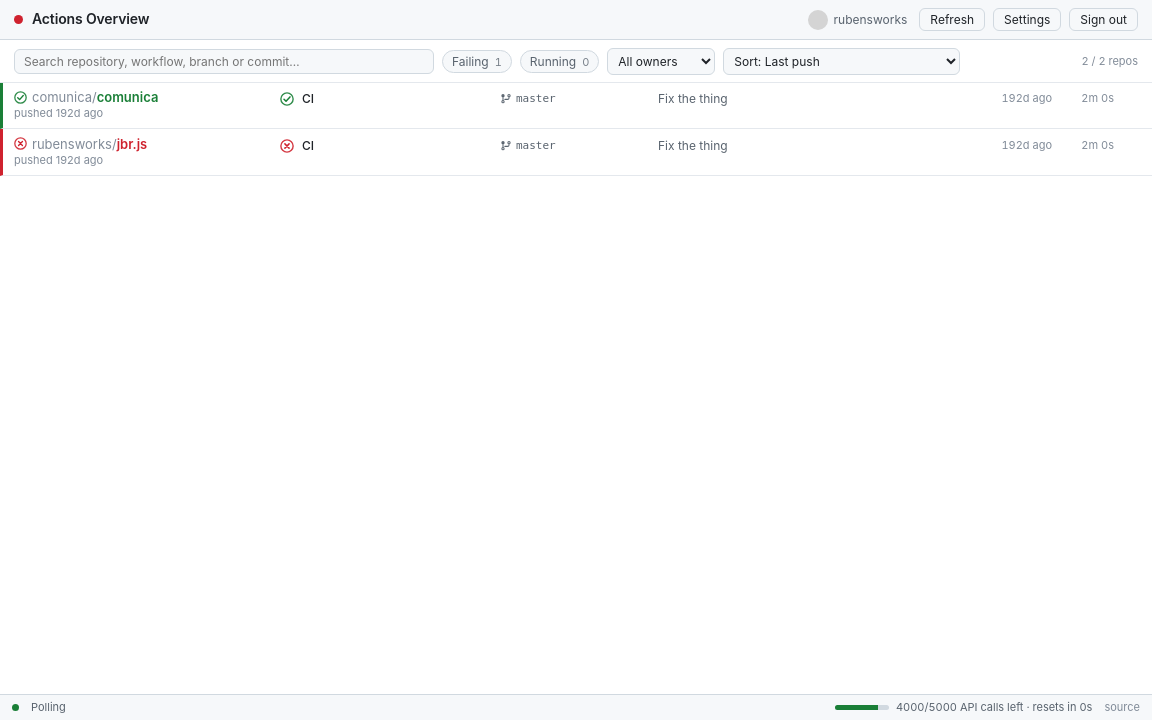
it: Dashboard › drawer › opens for the clicked repository and closes again
The image size is (1152, 720).
Click the button titled "show the last runs of every workflow": {"x": 139, "y": 97} x1=14 y1=89 x2=264 y2=105
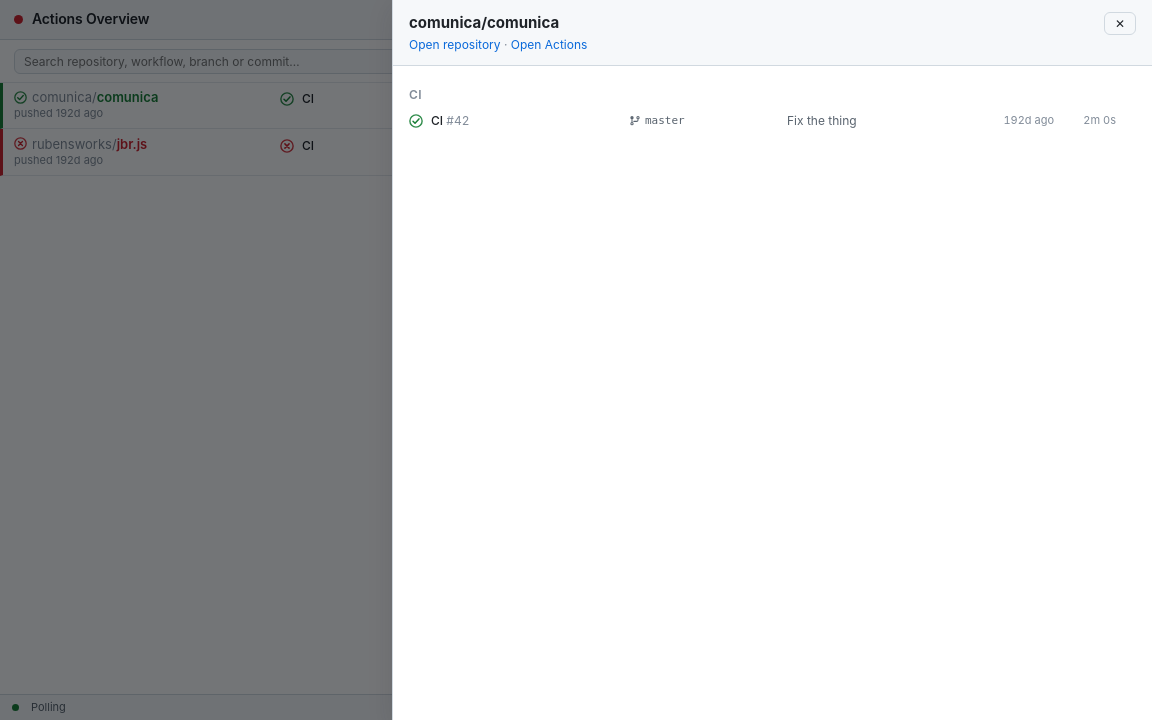
Result: the dialog is shown
Click the button named "Close": {"x": 1120, "y": 24} x1=1104 y1=12 x2=1136 y2=35
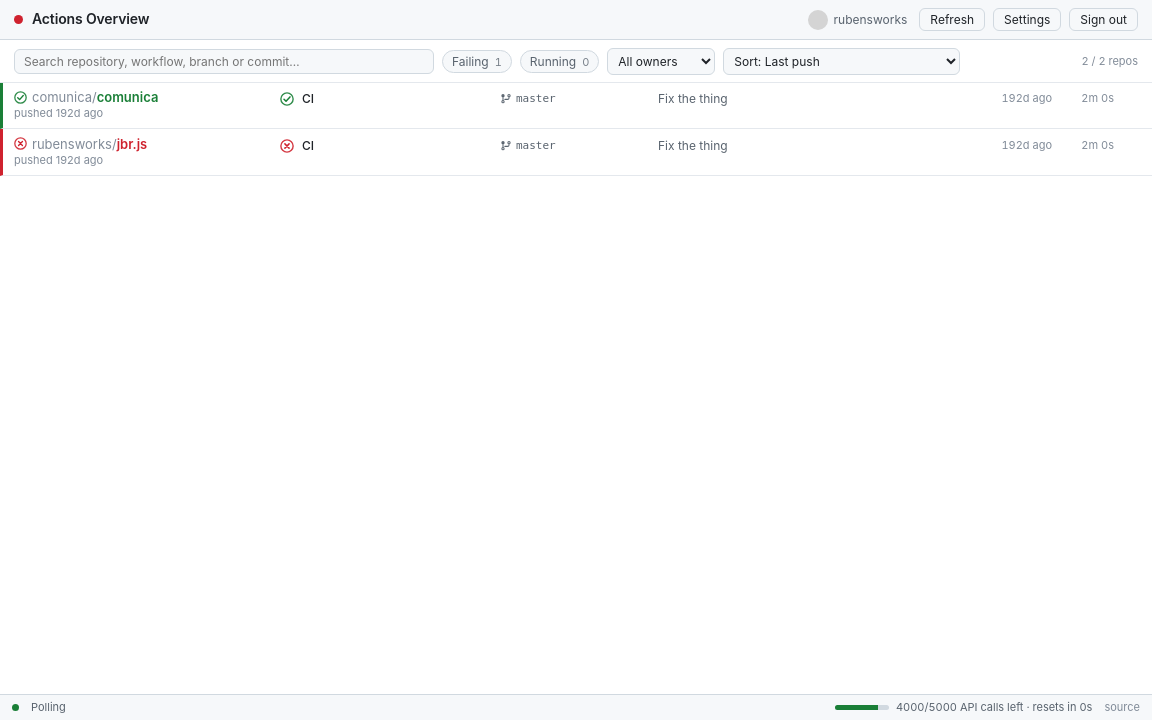
Result: the dialog is gone
